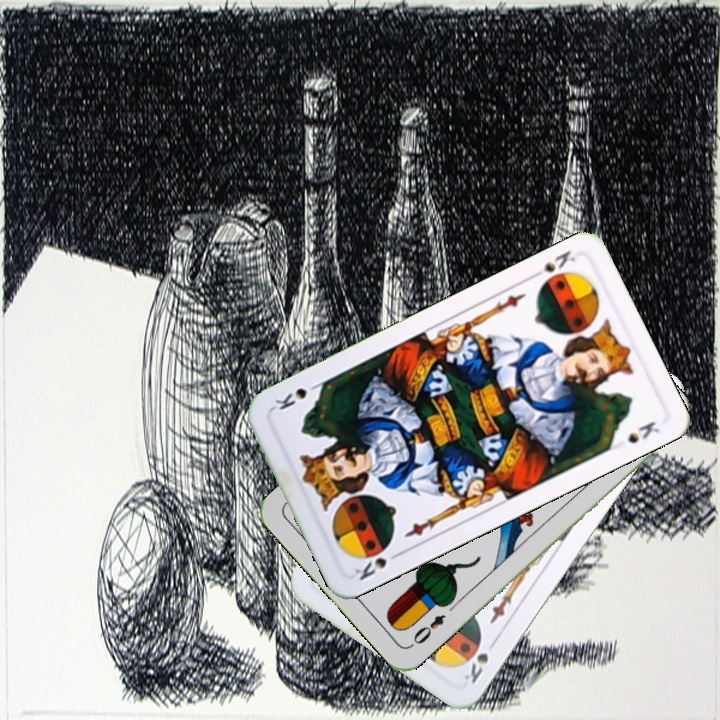EO: (406, 610, 448, 650)
SK: (459, 634, 500, 687), (350, 547, 405, 583), (527, 246, 578, 282)
